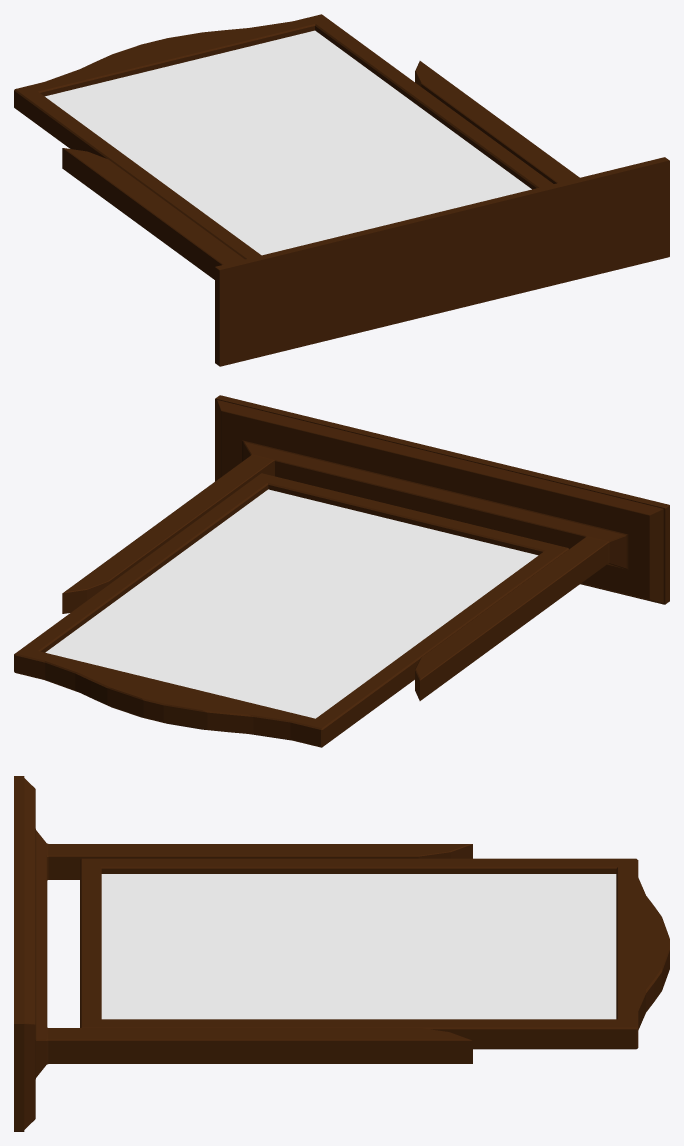
File: FRAME_STANDING.fbx
The picture shows the model from 3 angles, top to bottom: view 1: azimuth 30°, elevation 25°; view 2: azimuth 150°, elevation 25°; view 3: azimuth 270°, elevation 25°; orthographic projection. The views are drawn at different scales.
Visible parts, largest first — view 1: Plane.006, Cube, Plane.005; view 2: Plane.006, Cube, Plane.005; view 3: Plane.006, Cube, Plane.005.
Boxes of the visible parts, bbox=[...] form: Plane.006: bbox=[45, 30, 531, 255]; Cube: bbox=[62, 61, 669, 366]; Plane.005: bbox=[14, 14, 553, 259]; Plane.006: bbox=[45, 489, 538, 718]; Cube: bbox=[62, 395, 669, 700]; Plane.005: bbox=[14, 473, 568, 747]; Plane.006: bbox=[101, 874, 616, 1019]; Cube: bbox=[14, 776, 472, 1131]; Plane.005: bbox=[80, 858, 669, 1049].
Size of the model in its own units: 608 by 125 by 680.
